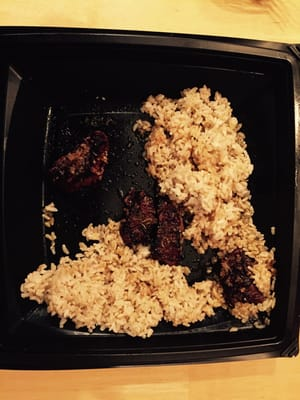sushi: (16, 86, 282, 336)
